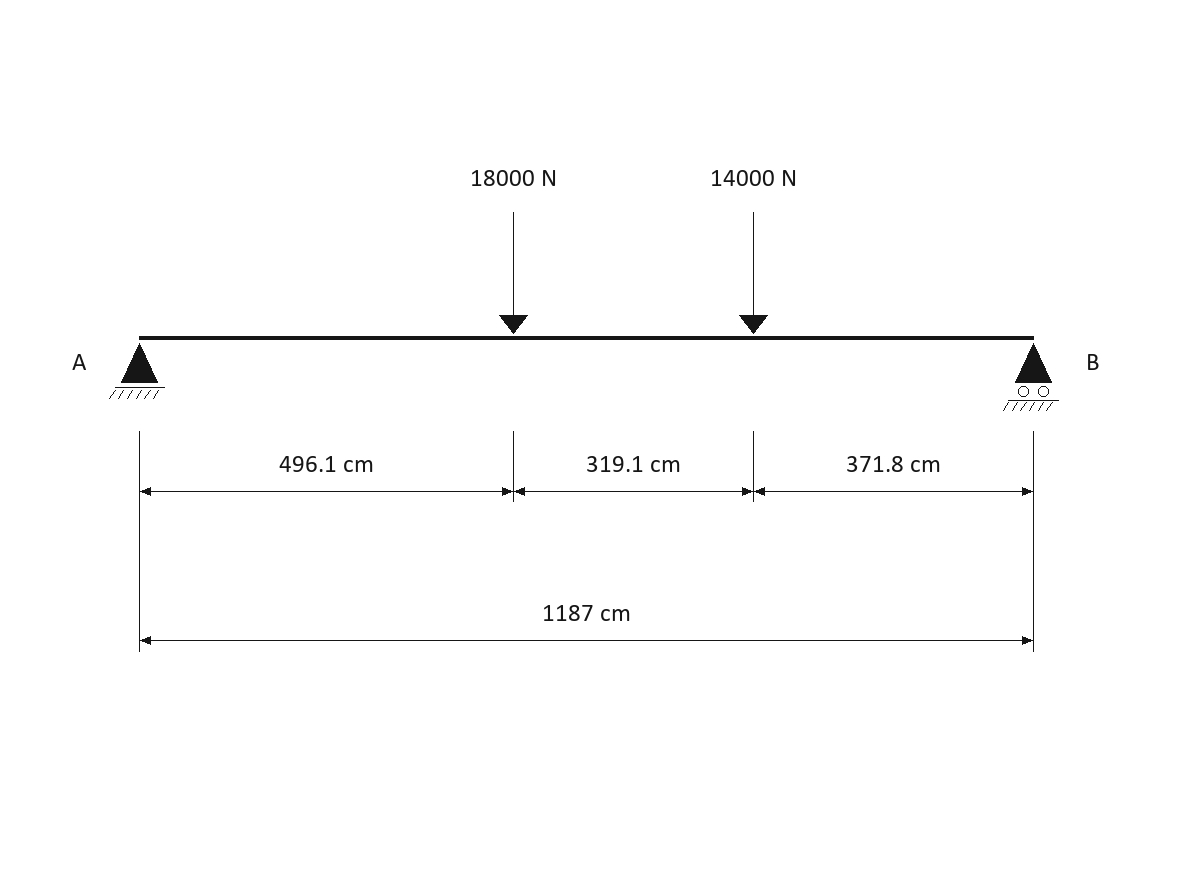pin_support: (109, 343, 165, 399)
point_load: (499, 212, 528, 334), (739, 212, 768, 334)
roller_support: (1003, 343, 1059, 411)
